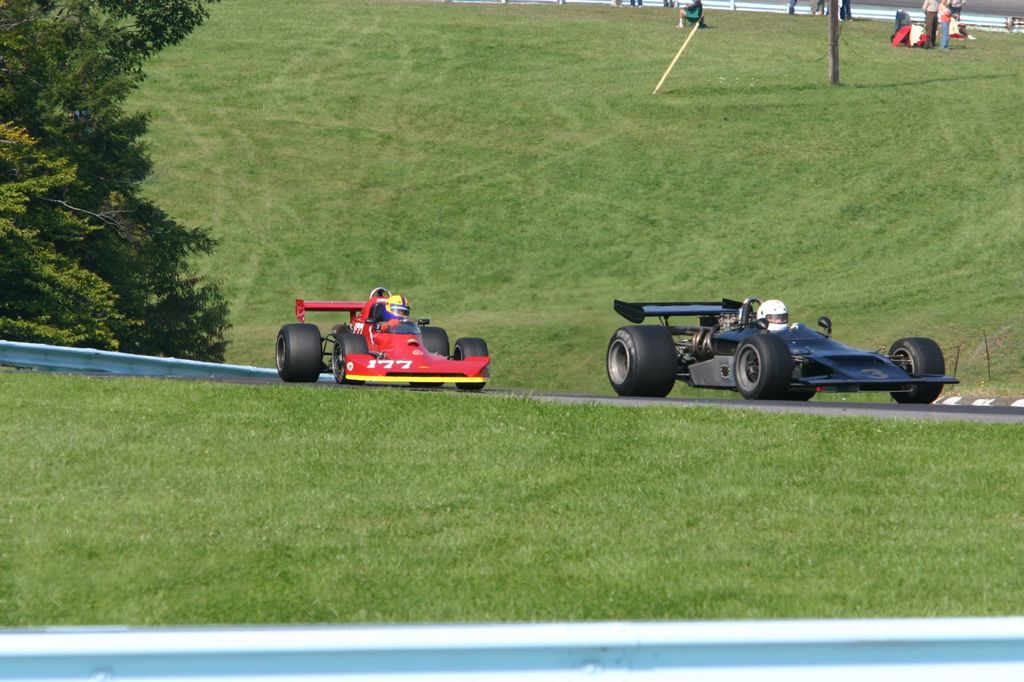cars: (602, 294, 962, 406), (270, 286, 495, 392)
